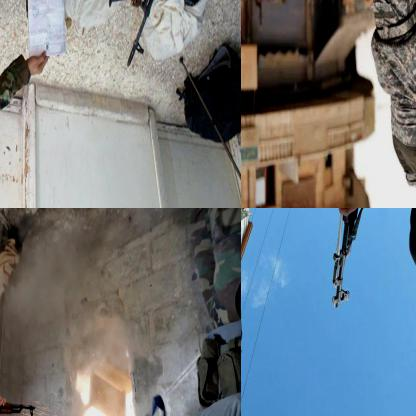rifle: (106, 0, 231, 70), (308, 208, 372, 314), (112, 385, 222, 415), (0, 364, 41, 415)
